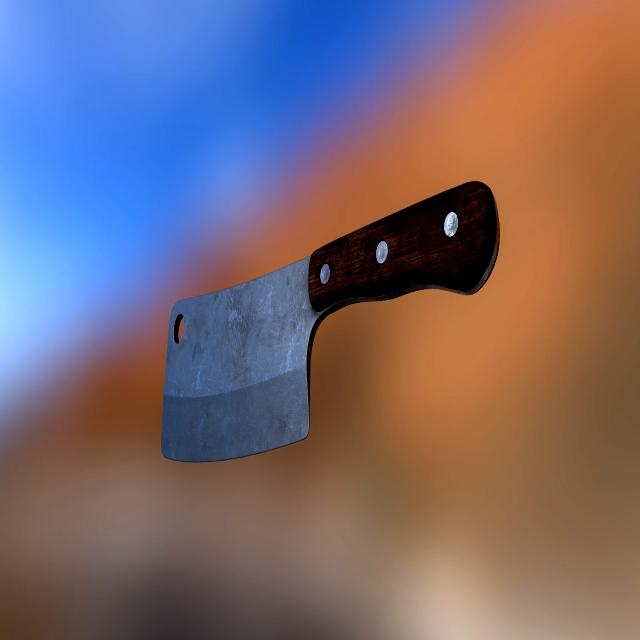cleaver: (160, 177, 503, 468)
